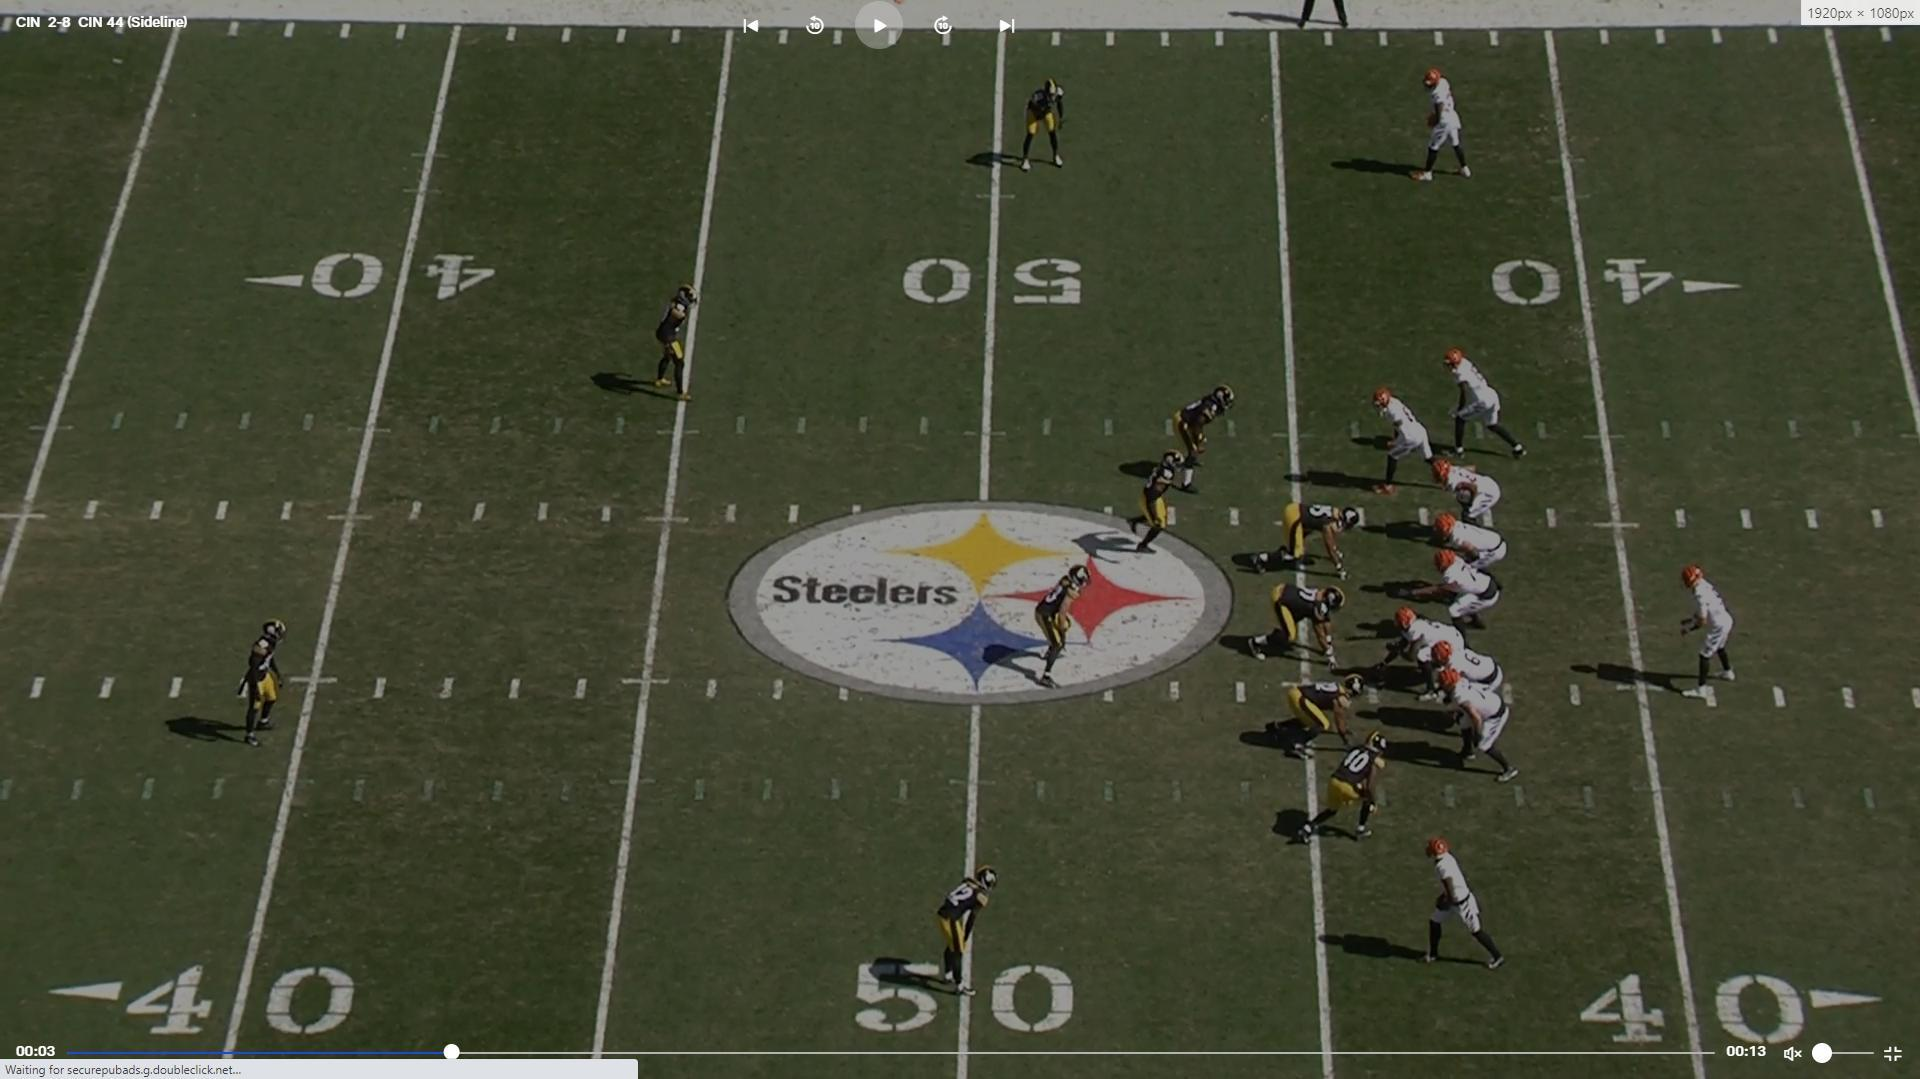player: (1420, 834, 1520, 977), (1296, 731, 1394, 849), (924, 855, 1004, 992), (1442, 347, 1532, 468), (1677, 558, 1744, 706), (1031, 550, 1098, 696), (1368, 386, 1451, 501), (1254, 676, 1363, 763), (1251, 501, 1366, 583), (1443, 671, 1521, 791), (1406, 65, 1478, 189), (1248, 580, 1348, 666), (1381, 605, 1462, 701), (1166, 380, 1232, 496), (241, 613, 295, 752), (649, 276, 704, 402), (1013, 74, 1079, 179), (1132, 445, 1191, 560), (1435, 512, 1509, 601), (1436, 454, 1507, 537), (1436, 549, 1502, 635), (1435, 641, 1509, 702)
ref: (1295, 0, 1360, 29)
